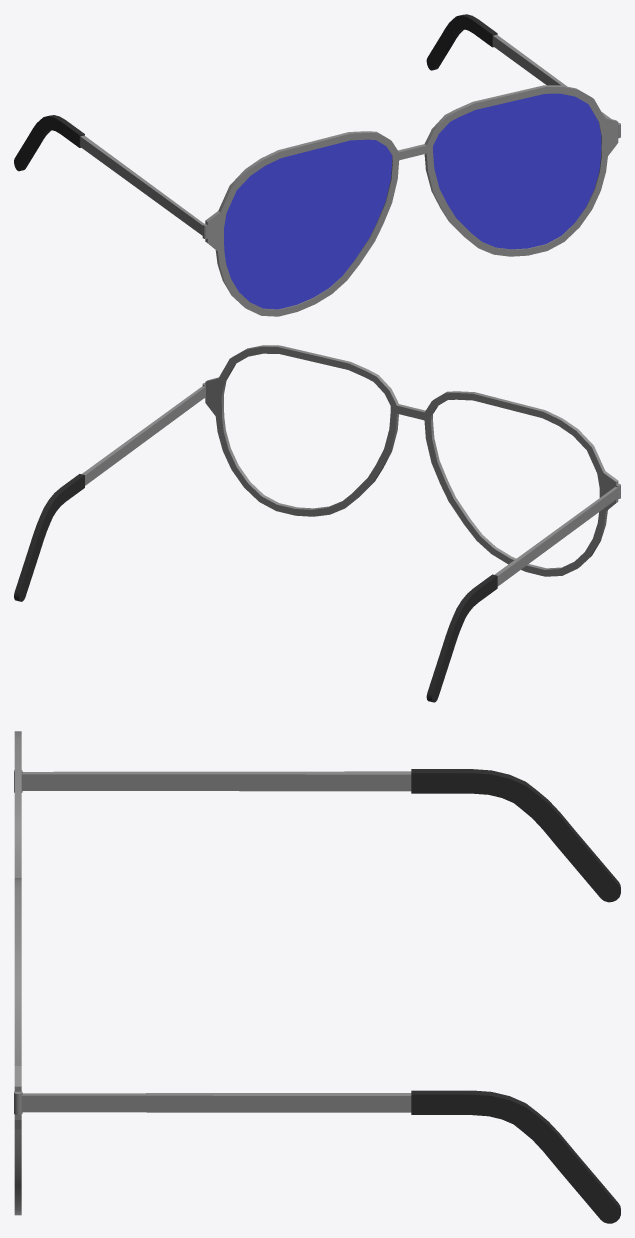
File: glasses.glb
3 renders of one model, top to bottom at view 1: azimuth 30°, elevation 25°; view 2: azimuth 150°, elevation 25°; view 3: azimuth 270°, elevation 25°, orthographic. The views are drawn at different scales.
Visible parts, largest first — view 1: glasses2.001; view 2: glasses2.001; view 3: glasses2.001.
Boxes of the visible parts, <box> form: glasses2.001: <box>14,14,620,316</box>; glasses2.001: <box>14,345,620,702</box>; glasses2.001: <box>14,731,620,1223</box>.
Size of the model in its own units: 2.06 by 0.7769 by 1.62.
